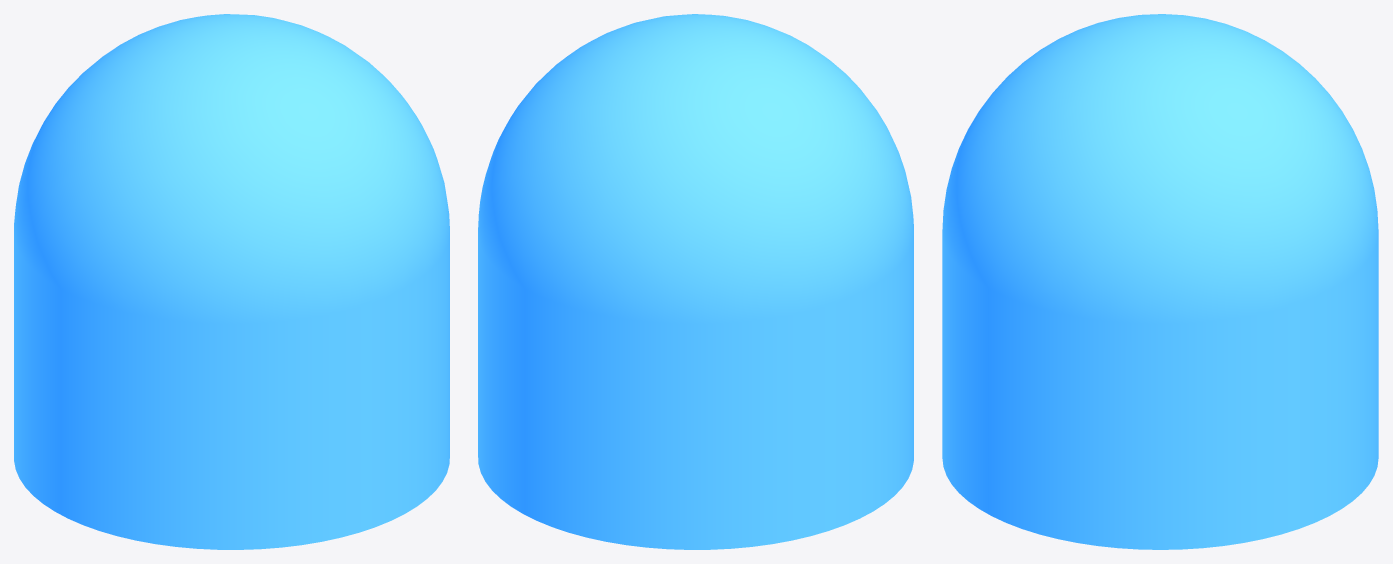
The model's file is Tip_render.glb.
3 views of the same model, side by side, from view 1: azimuth 30°, elevation 25°; view 2: azimuth 150°, elevation 25°; view 3: azimuth 270°, elevation 25° (orthographic).
Visible parts, largest first — view 1: Tip_render; view 2: Tip_render; view 3: Tip_render.
Boxes of the visible parts, bbox=[...] form: Tip_render: bbox=[14, 14, 449, 549]; Tip_render: bbox=[478, 14, 913, 549]; Tip_render: bbox=[942, 14, 1378, 549].
Size of the model in its own units: 0.028 by 0.03 by 0.028.
